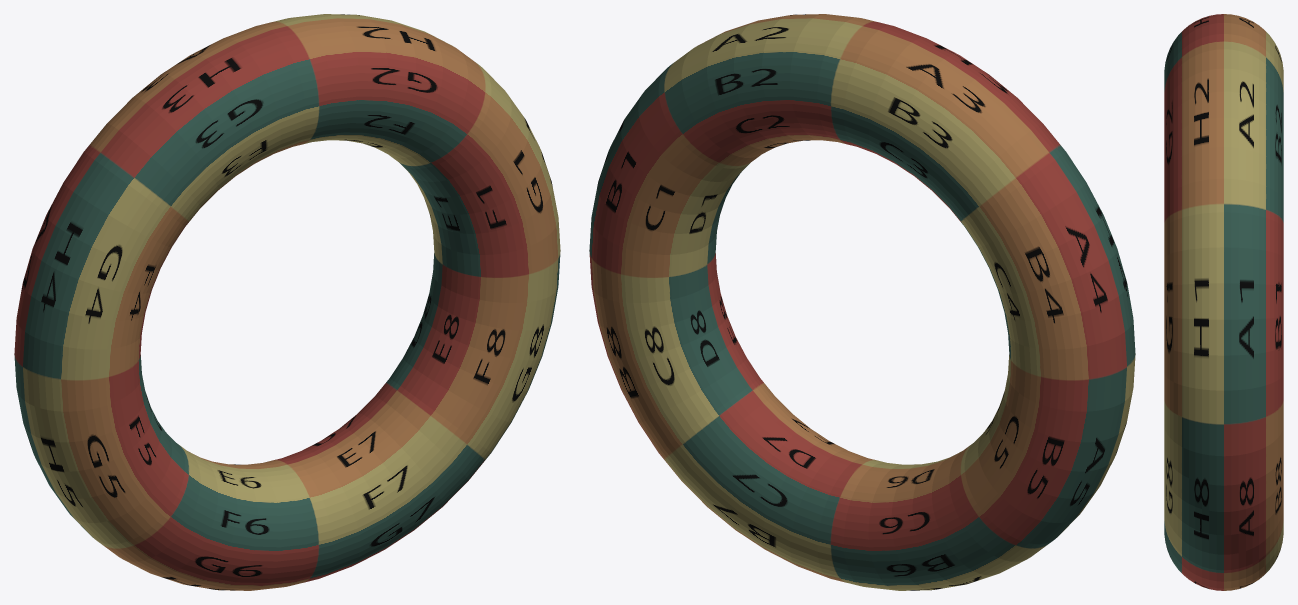
The model's file is texture_torus_R18_r14.glb.
3 views of the same model, side by side, from view 1: azimuth 30°, elevation 25°; view 2: azimuth 150°, elevation 25°; view 3: azimuth 270°, elevation 25° (orthographic). The views are drawn at different scales.
Parts seen in each view (by area): view 1: world; view 2: world; view 3: world.
Boxes of the visible parts, bbox=[...] form: world: bbox=[14, 14, 560, 590]; world: bbox=[589, 14, 1135, 590]; world: bbox=[1164, 14, 1283, 590].
Size of the model in its own units: 27.73 by 27.68 by 5.72.
Materials: 1 (1 with a texture image).
